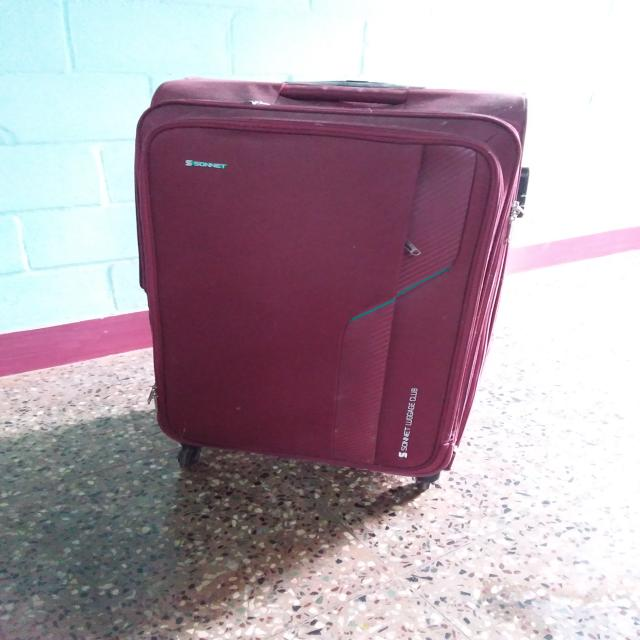suitcaserotation: (130, 73, 532, 493)
